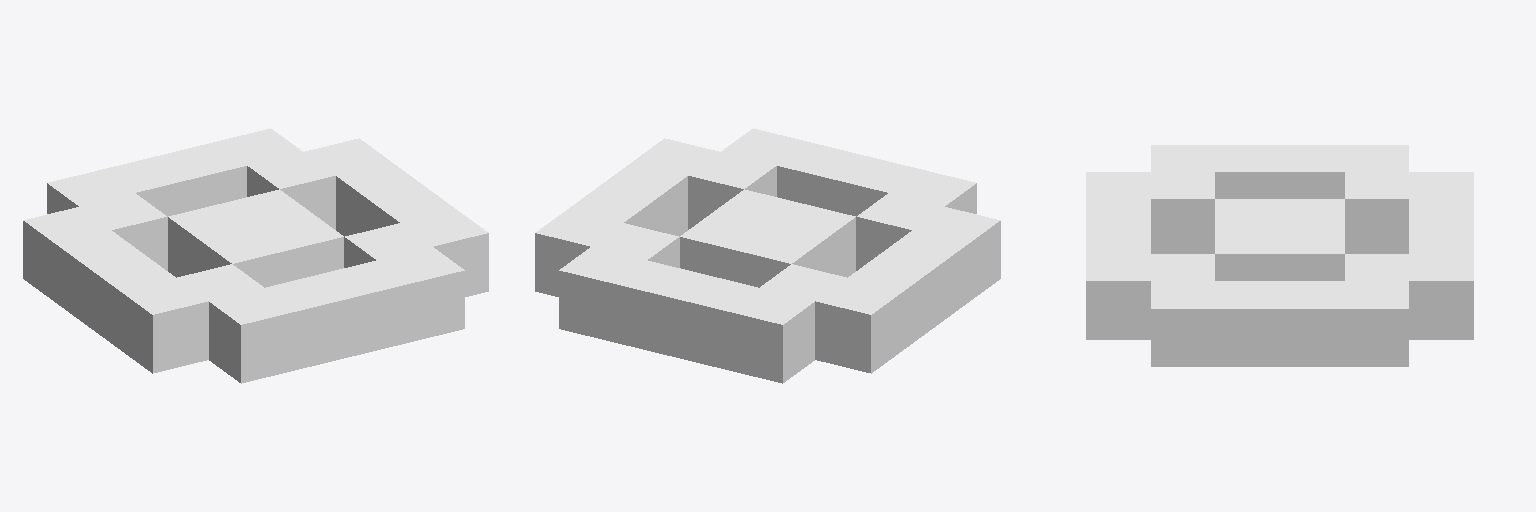
File: Drain.obj
The picture shows the model from 3 angles: view 1: azimuth 30°, elevation 25°; view 2: azimuth 150°, elevation 25°; view 3: azimuth 270°, elevation 25°; orthographic projection.
Bounding box in the file's own units: 6 × 1 × 6.